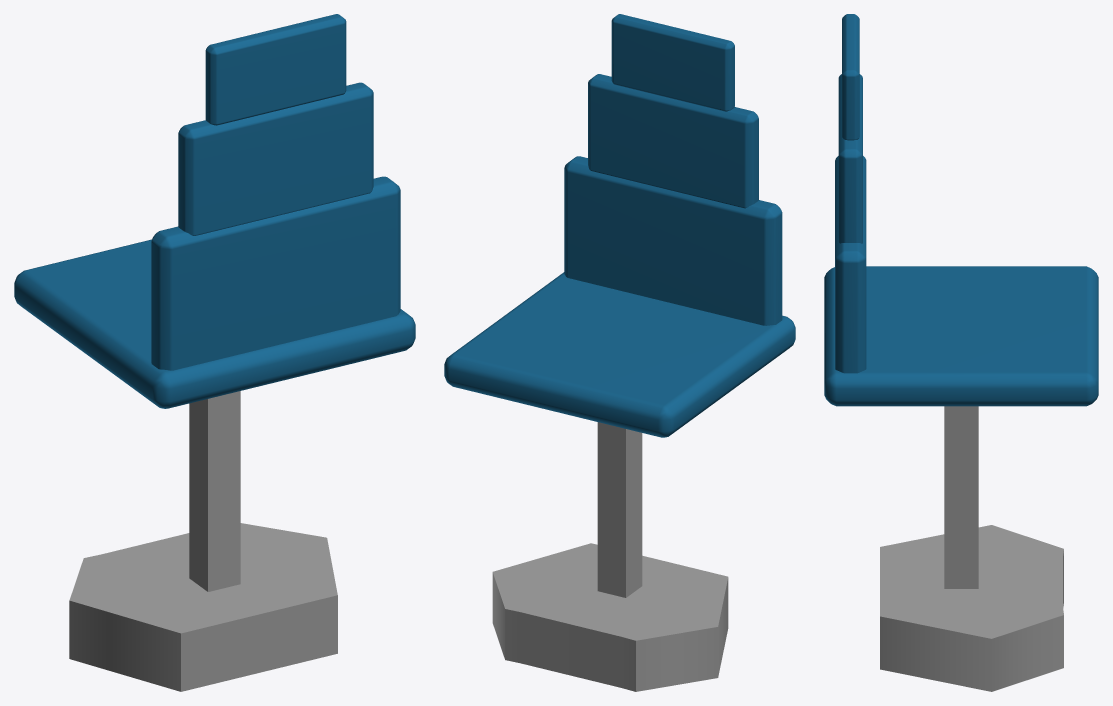
Rendered from desk chair.fbx.
3 views of the same model, side by side, from view 1: azimuth 30°, elevation 25°; view 2: azimuth 150°, elevation 25°; view 3: azimuth 270°, elevation 25° (orthographic). The views are drawn at different scales.
Parts seen in each view (by area): view 1: pCube2, pCube4, pCube3, pasted__pCube4, pasted__pasted__pCube4, pCube5; view 2: pCube3, pCube2, pCube4, pasted__pCube4, pasted__pasted__pCube4, pCube5; view 3: pCube3, pCube2, pCube5, pCube4, pasted__pCube4, pasted__pasted__pCube4.
Part boxes in pixels (<box>): pCube2: <box>69,523,337,691</box>; pCube4: <box>151,176,400,370</box>; pCube3: <box>14,239,415,408</box>; pasted__pCube4: <box>178,82,373,235</box>; pasted__pasted__pCube4: <box>205,14,346,125</box>; pCube5: <box>189,391,240,591</box>; pCube3: <box>444,272,795,437</box>; pCube2: <box>492,543,728,691</box>; pCube4: <box>564,156,782,325</box>; pasted__pCube4: <box>588,74,758,208</box>; pasted__pasted__pCube4: <box>611,14,734,111</box>; pCube5: <box>597,422,642,597</box>; pCube3: <box>824,266,1098,406</box>; pCube2: <box>880,525,1063,691</box>; pCube5: <box>944,406,978,588</box>; pCube4: <box>835,156,866,373</box>; pasted__pCube4: <box>838,74,862,243</box>; pasted__pasted__pCube4: <box>842,14,859,140</box>.
Bounding box in the file's own units: 1.21 × 2.88 × 1.21.
